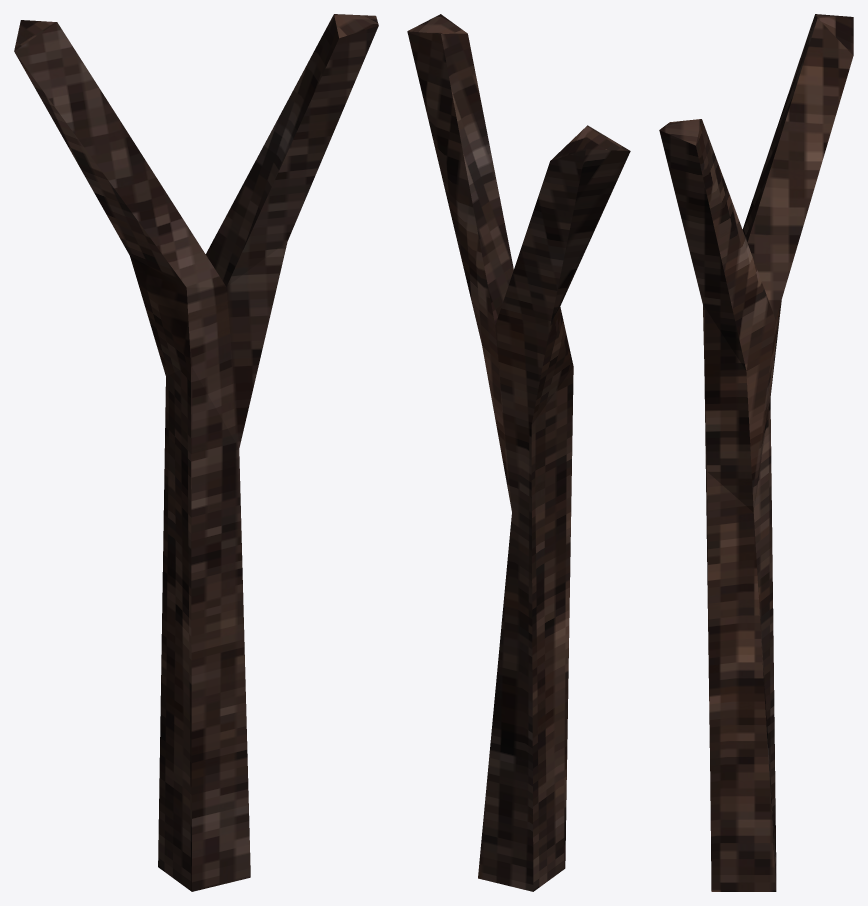
Rendered from tree 2.fbx.
The picture shows the model from 3 angles, left to right: view 1: azimuth 30°, elevation 25°; view 2: azimuth 150°, elevation 25°; view 3: azimuth 270°, elevation 25°; orthographic projection. The views are drawn at different scales.
Parts seen in each view (by area): view 1: pCube3; view 2: pCube3; view 3: pCube3.
Part boxes in pixels (box(x1,y1,x2,y2)): pCube3: box(14, 14, 378, 891); pCube3: box(407, 14, 630, 891); pCube3: box(659, 14, 853, 891).
Bounding box in the file's own units: 153 × 414 × 90.01.
1 material, 1 textured.
